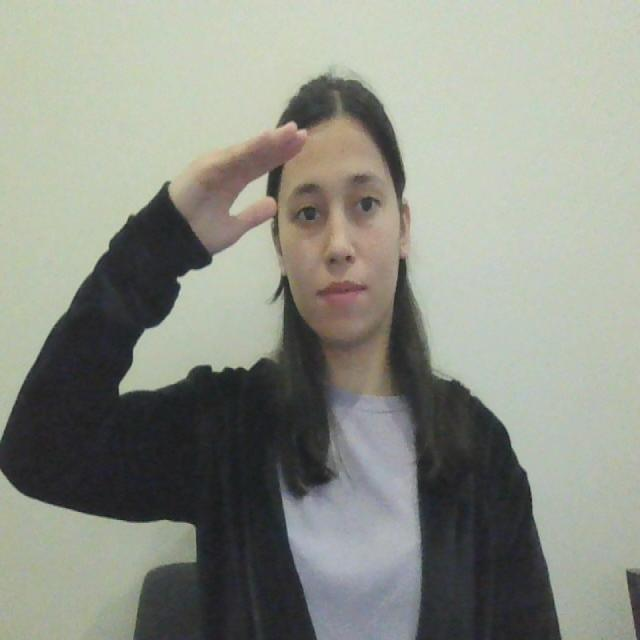Merhaba: (152, 88, 326, 313)
